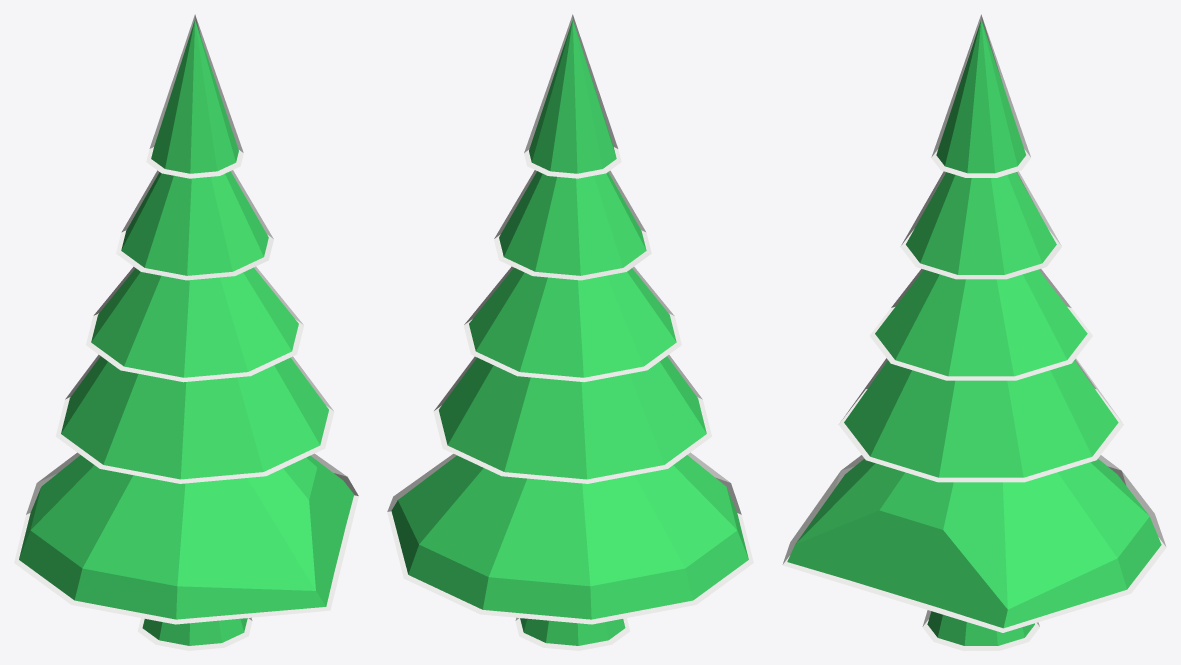
3 renders of one model, left to right at view 1: azimuth 30°, elevation 25°; view 2: azimuth 150°, elevation 25°; view 3: azimuth 270°, elevation 25°, orthographic.
Parts seen in each view (by area): view 1: Cylinder.001; view 2: Cylinder.001; view 3: Cylinder.001.
Part boxes in pixels (bbox=[...]): Cylinder.001: bbox=[14, 14, 358, 650]; Cylinder.001: bbox=[387, 14, 753, 650]; Cylinder.001: bbox=[782, 14, 1166, 650].
Bounding box in the file's own units: 6.43 × 11.5 × 6.53.
